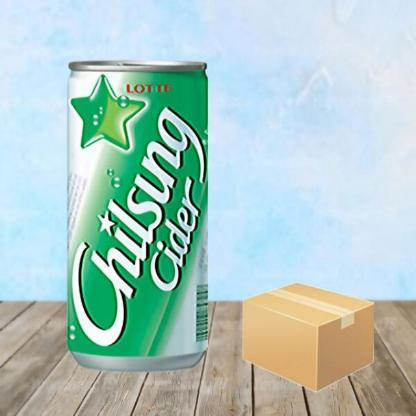Can: (61, 59, 211, 365)
